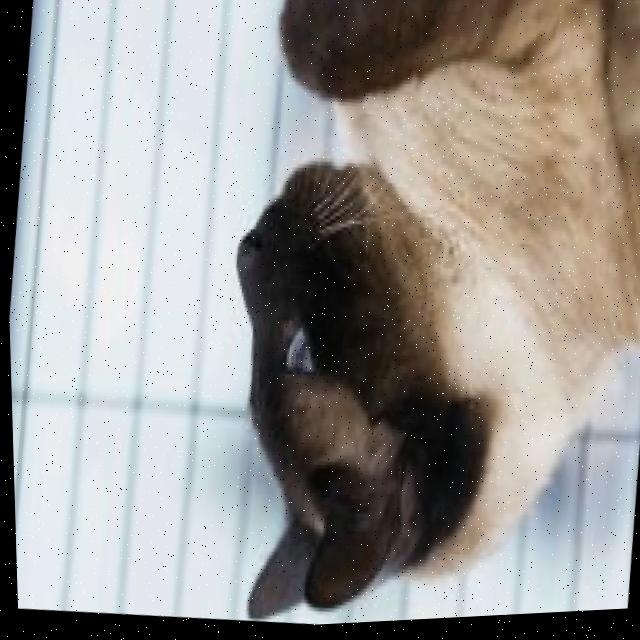Siamese: (185, 0, 640, 632)
